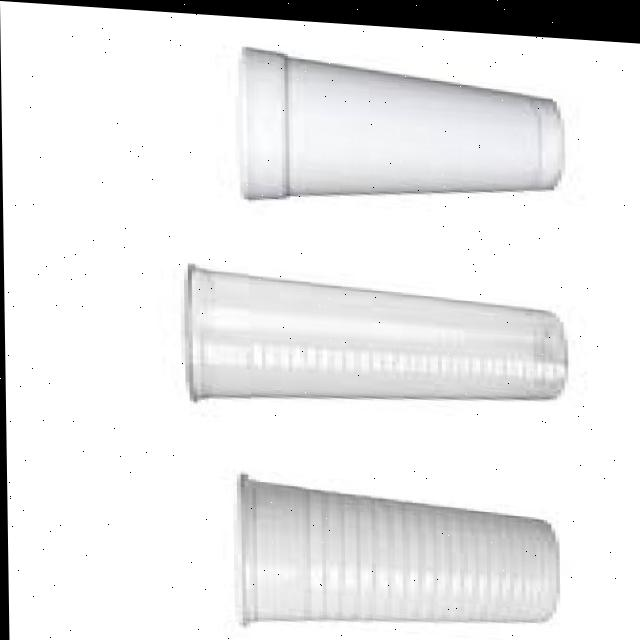cup: (139, 244, 596, 437), (196, 35, 609, 219), (184, 455, 584, 640)
